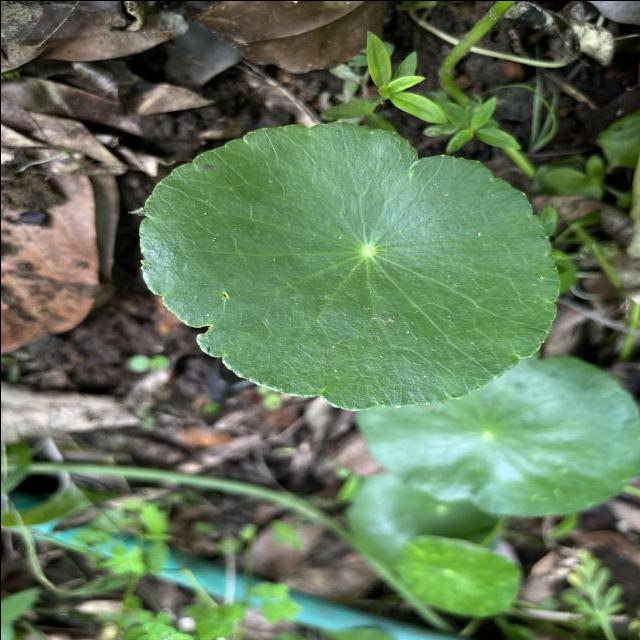Bacopa monnieri: (133, 114, 566, 415)
